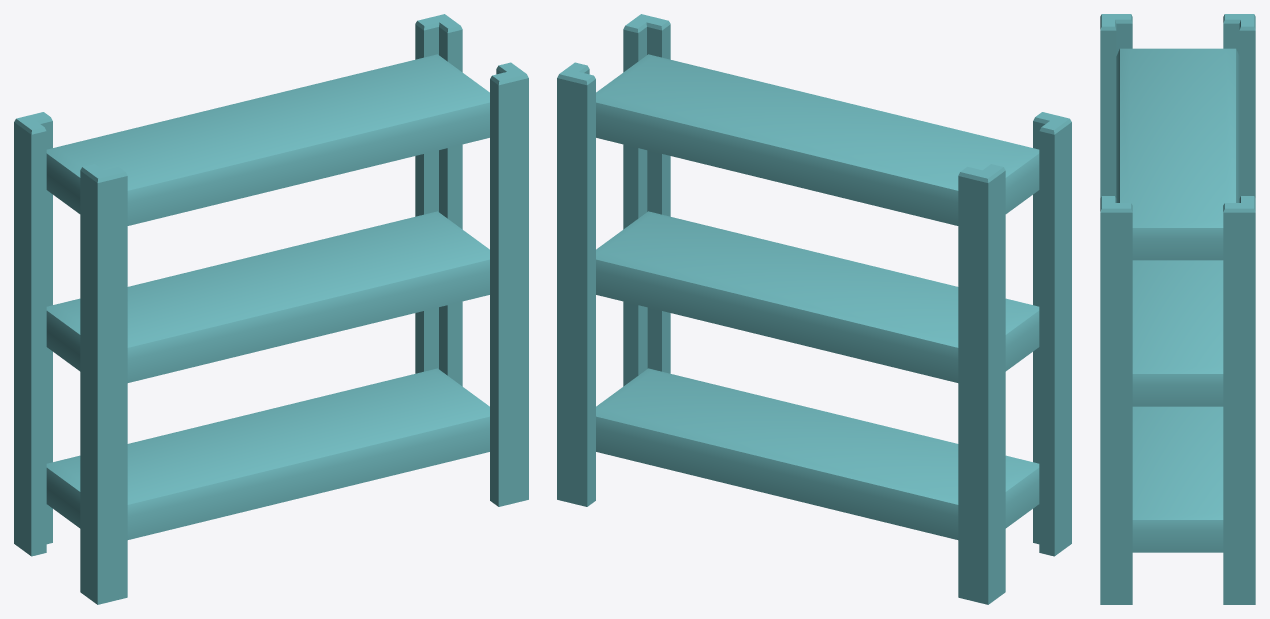
The model's file is SM_Storage_Shelf_A.fbx.
3 renders of one model, left to right at view 1: azimuth 30°, elevation 25°; view 2: azimuth 150°, elevation 25°; view 3: azimuth 270°, elevation 25°, orthographic. The views are drawn at different scales.
Visible parts, largest first — view 1: SM_Storage_Shelf_A; view 2: SM_Storage_Shelf_A; view 3: SM_Storage_Shelf_A.
Boxes of the visible parts, left/top/right/bottom form: SM_Storage_Shelf_A: left=14, top=14, right=528, bottom=604; SM_Storage_Shelf_A: left=557, top=14, right=1071, bottom=604; SM_Storage_Shelf_A: left=1100, top=14, right=1255, bottom=604.
Bounding box in the file's own units: 343 × 324 × 115.
